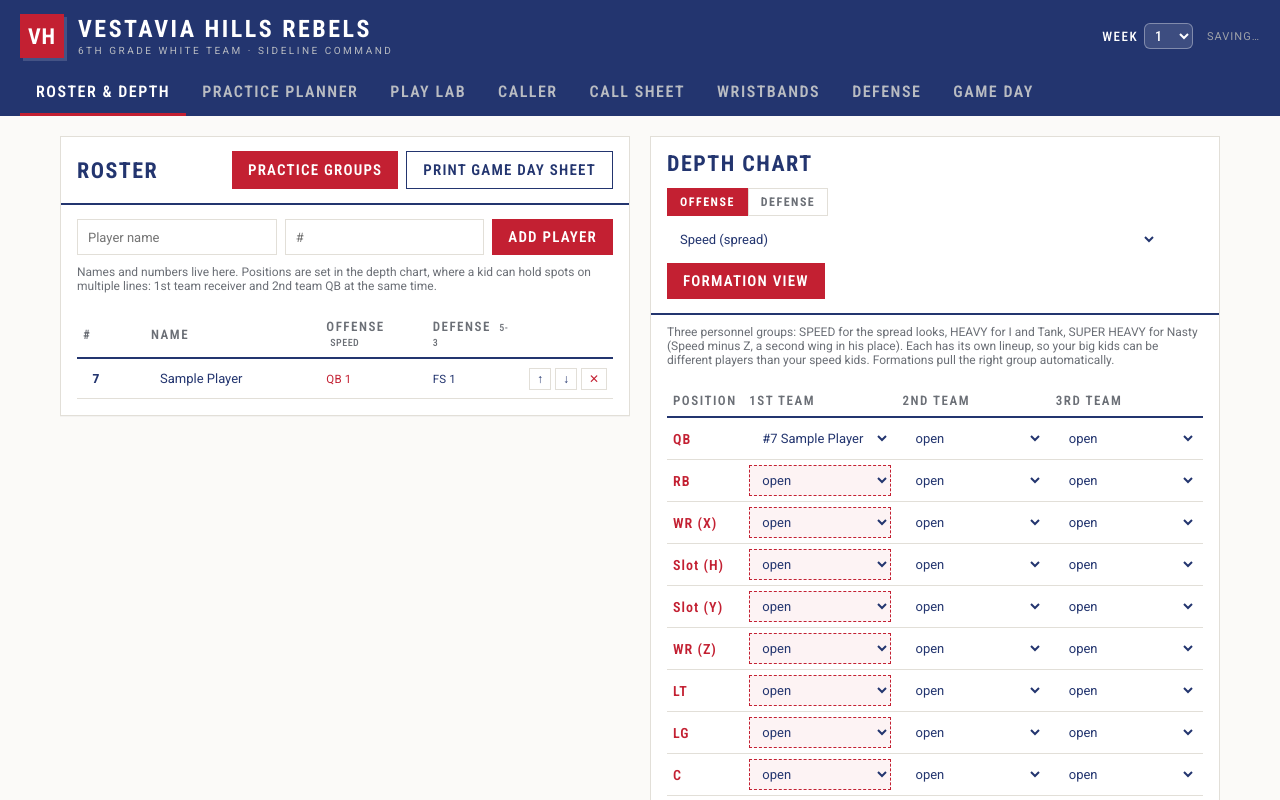
Test: app end-to-end › shows playbook formations on the depth chart in Formation View
The width and height of the screenshot is (1280, 800).
Expected: the text "VESTAVIA HILLS REBELS" is shown, [78,16,393,40]
Click the button "Formation View" at (746, 281), box [667,263,825,299]
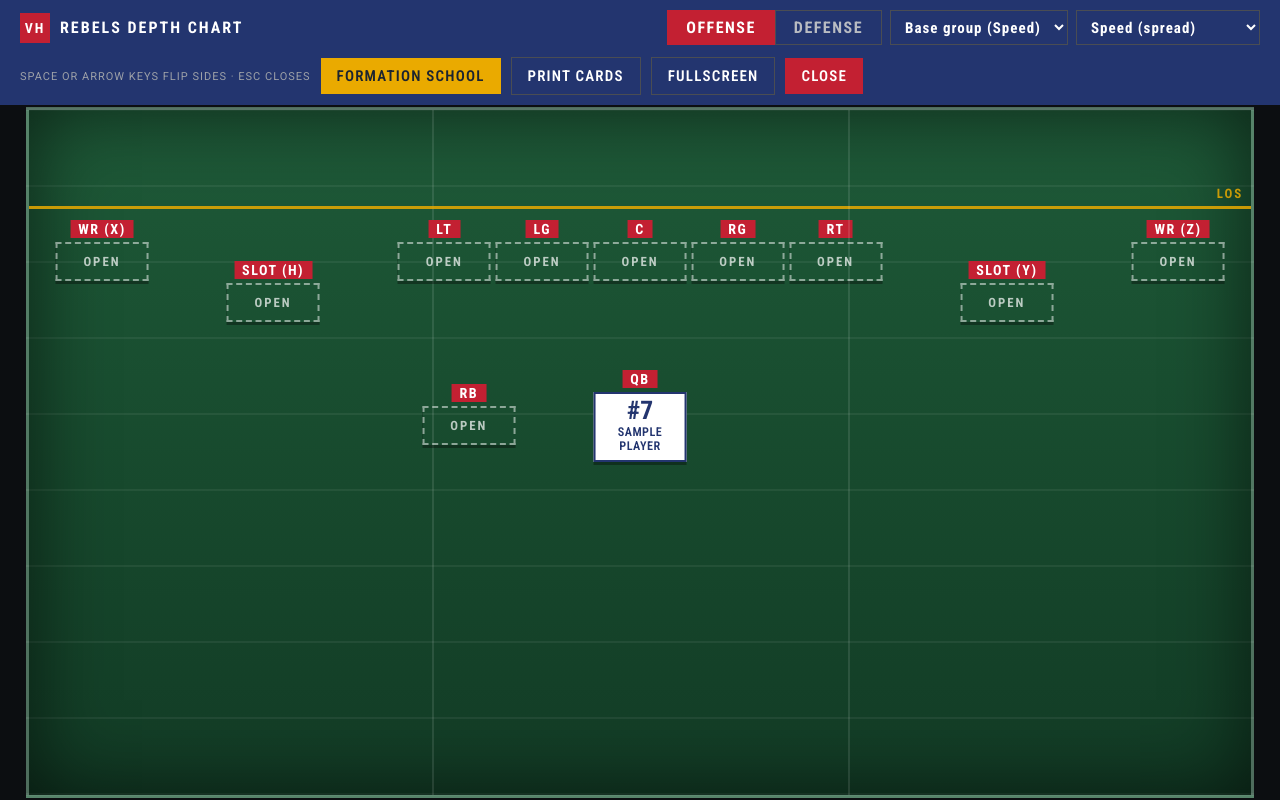
Select "Trips Rt" in the dropdown named "Formation" at (979, 28), box [890,10,1068,45]
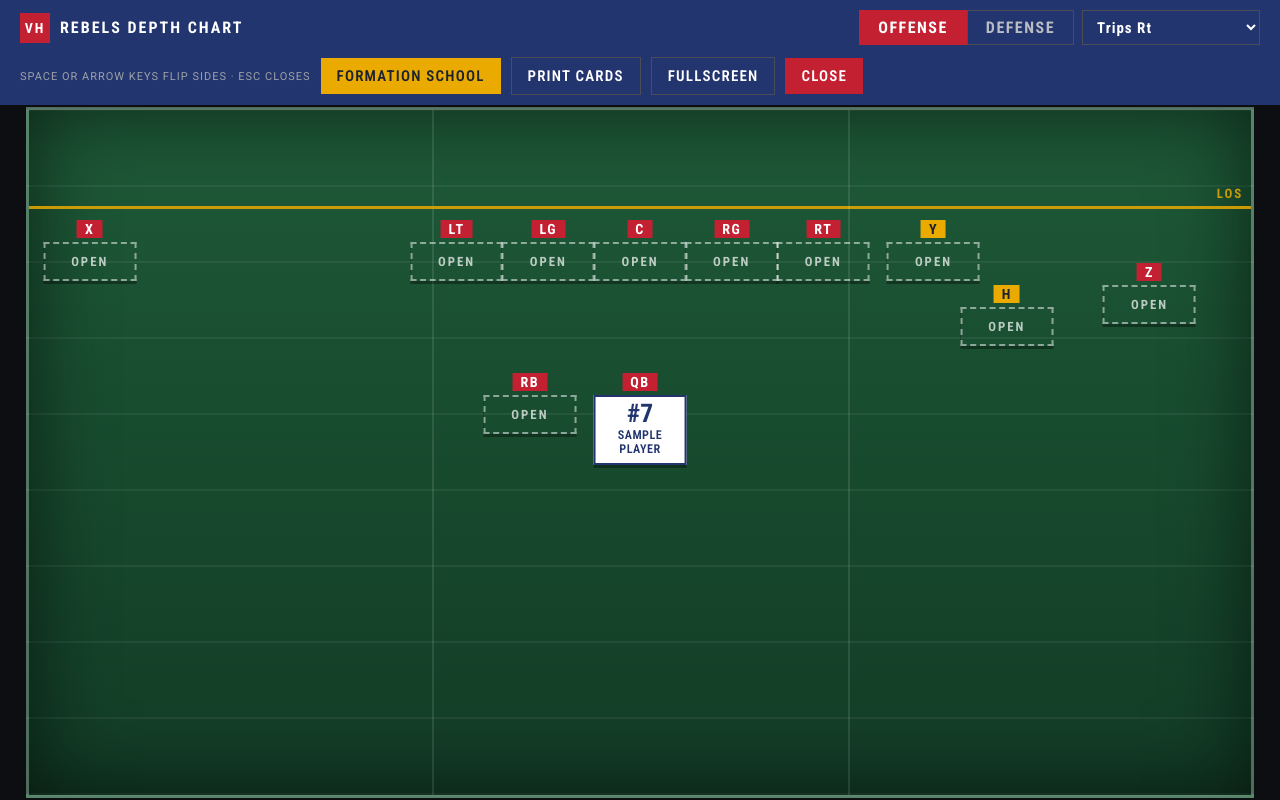
Result: the text "X" is shown at [77,220,102,238]
Result: the text "QB" is shown at [622,373,658,391]
Result: the text "H" is shown at [994,285,1020,303]
